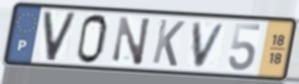0: (75, 12, 111, 65)
5: (227, 22, 263, 73)
K: (150, 17, 187, 69)
N: (111, 15, 153, 68)
V: (41, 10, 79, 63), (191, 21, 229, 69)
